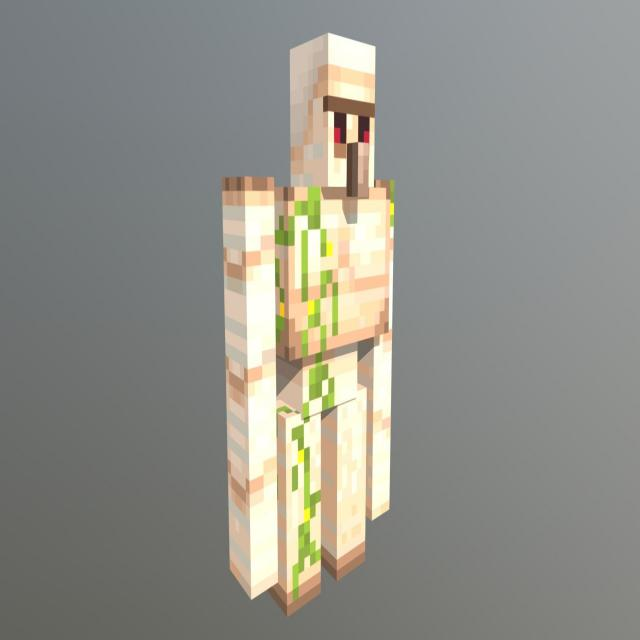Iron Golem: (220, 29, 394, 618)
